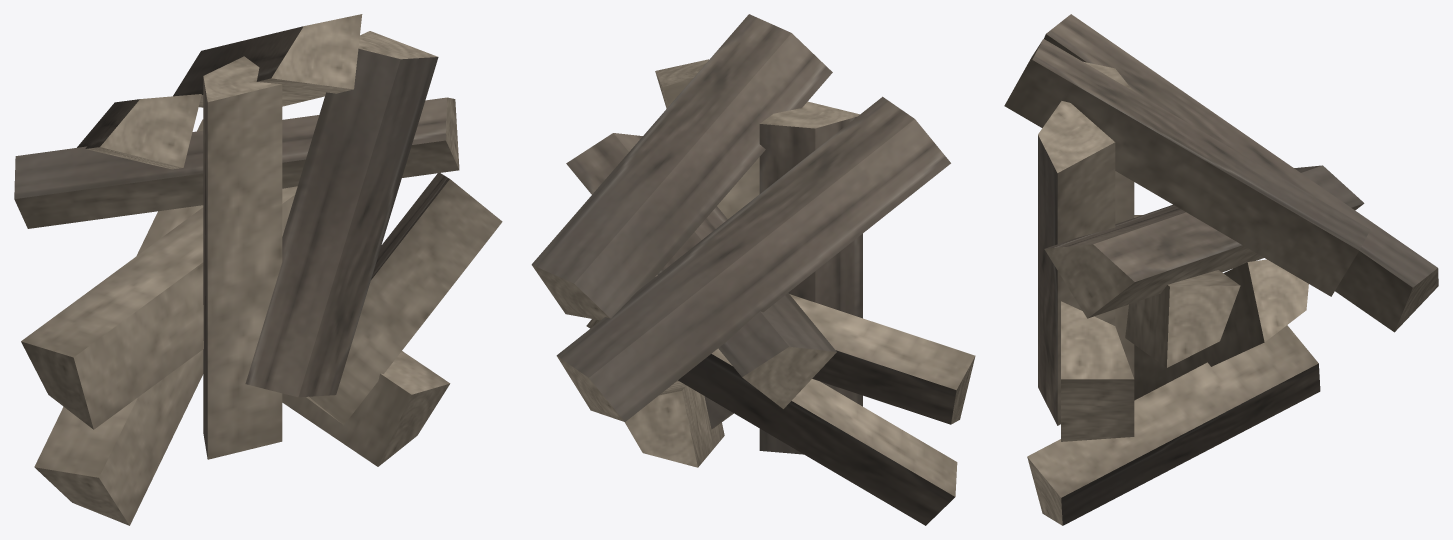
File: FireCamp_A.fbx
The picture shows the model from 3 angles, left to right: view 1: azimuth 30°, elevation 25°; view 2: azimuth 150°, elevation 25°; view 3: azimuth 270°, elevation 25°; orthographic projection. The views are drawn at different scales.
Visible parts, largest first — view 1: FireCamp_A; view 2: FireCamp_A; view 3: FireCamp_A.
Part boxes in pixels (box(x1,y1,x2,y2)): FireCamp_A: box(14, 14, 502, 525); FireCamp_A: box(531, 14, 975, 525); FireCamp_A: box(1004, 14, 1438, 525).
Size of the model in its own units: 1.45 by 1.51 by 1.29.
